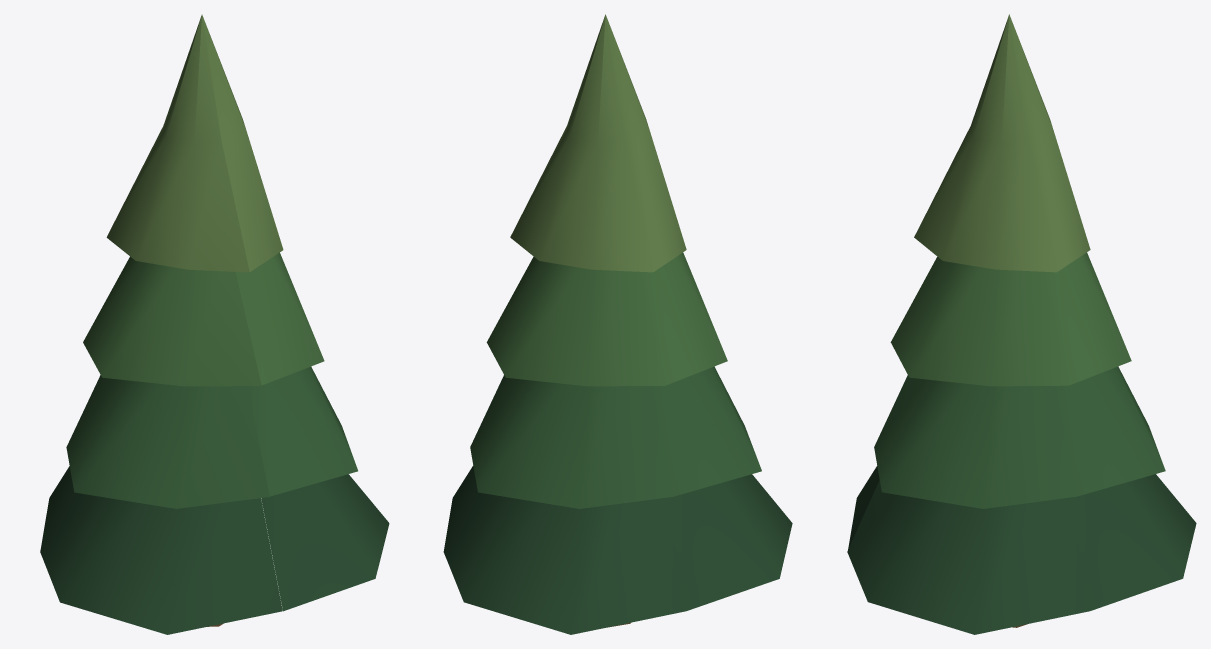
Rendered from pine.glb.
3 views of the same model, side by side, from view 1: azimuth 30°, elevation 25°; view 2: azimuth 150°, elevation 25°; view 3: azimuth 270°, elevation 25° (orthographic).
Visible parts, largest first — view 1: pine; view 2: pine; view 3: pine.
Boxes of the visible parts, <box> form: pine: <box>40,14,389,634</box>; pine: <box>443,14,792,634</box>; pine: <box>847,14,1196,634</box>.
Size of the model in its own units: 0.5155 by 0.8725 by 0.4945.
